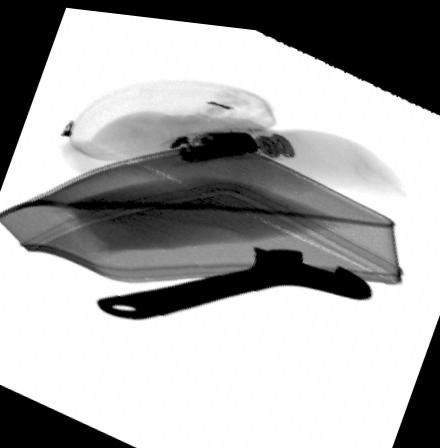Wrench: (93, 237, 373, 320)
